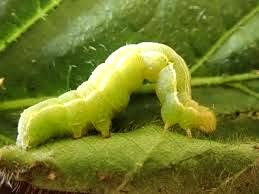Caterpillar: (16, 38, 219, 153)
